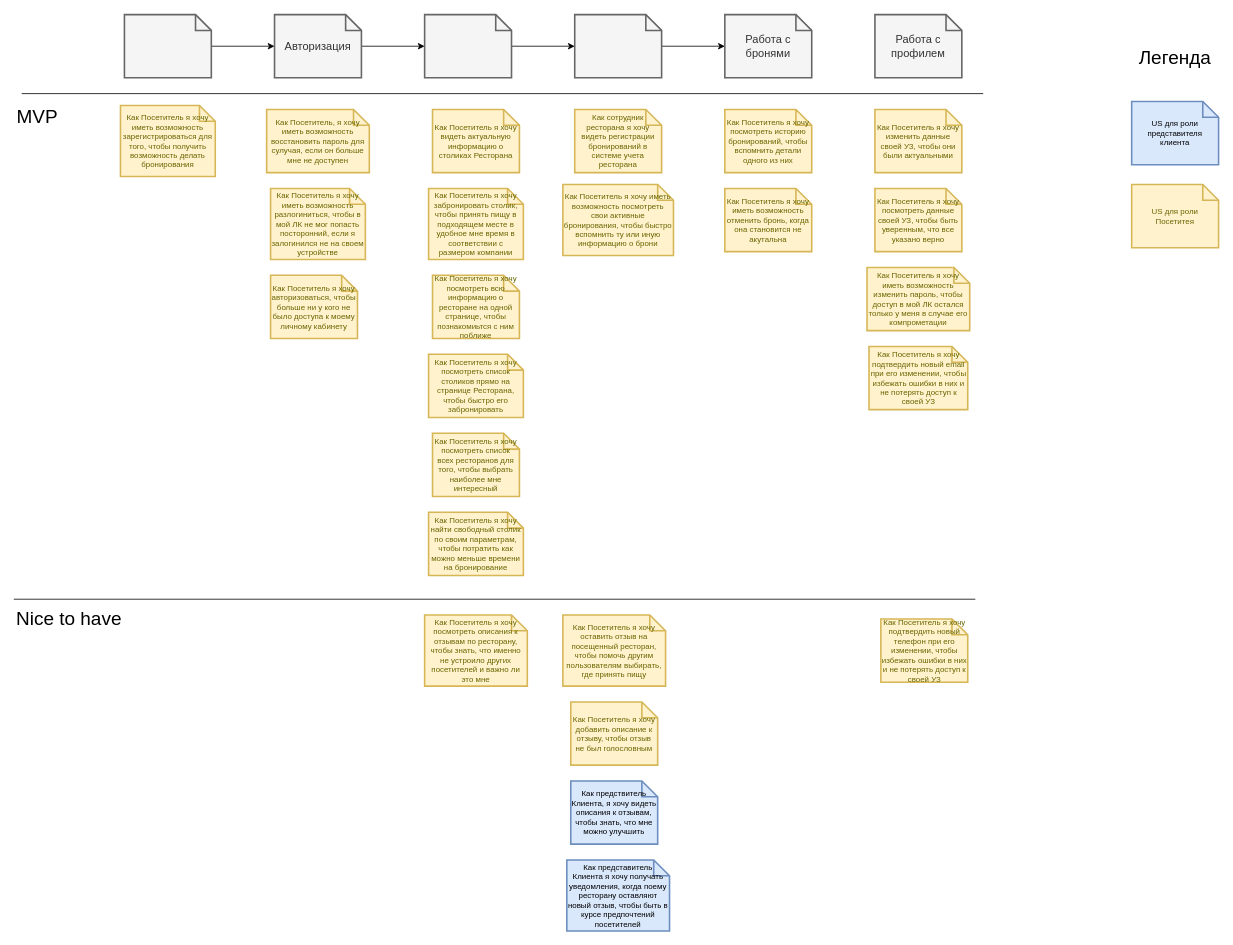
This 1233x945 diagram has some shape labels left out. The box of each missing label's shape, as (x1, y1, x2, y2) in pixels:
Поиск столика и просмотр списка ресторанов: (423, 13, 512, 78)
Просмотр деталей и создание бронирование: (574, 13, 662, 78)
Регистрация: (123, 13, 212, 78)
